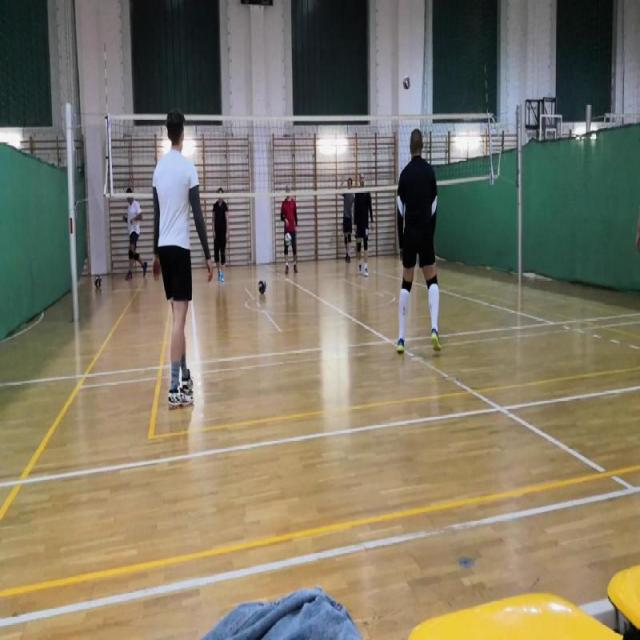volleyball: (258, 279, 266, 294), (94, 273, 102, 287), (403, 76, 411, 90), (284, 233, 291, 244)
